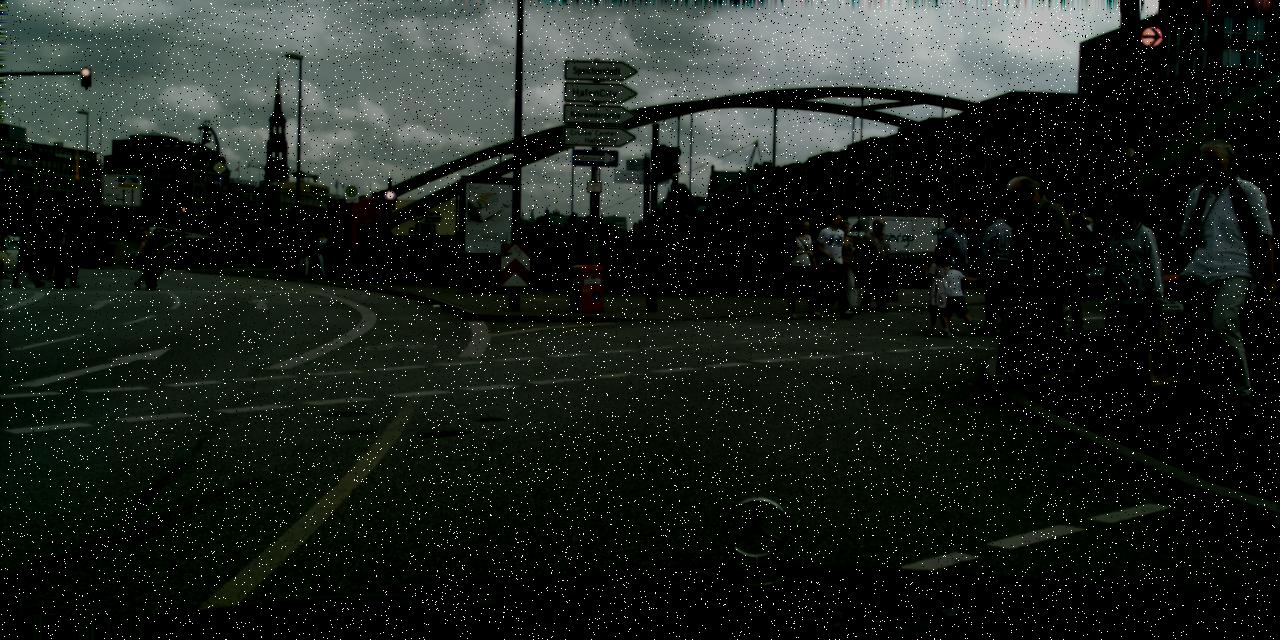ped: (1166, 138, 1279, 414), (985, 175, 1072, 387), (1088, 189, 1172, 395), (994, 181, 1076, 381), (1034, 200, 1088, 331), (970, 202, 1021, 329), (812, 212, 854, 314), (784, 219, 824, 319), (824, 219, 862, 312), (858, 218, 896, 310), (921, 243, 958, 334), (931, 212, 967, 300), (942, 215, 976, 299), (940, 254, 972, 334), (48, 226, 73, 287), (143, 228, 168, 289), (18, 228, 42, 287), (134, 231, 158, 288), (62, 230, 85, 286), (285, 222, 306, 274), (33, 230, 53, 280), (312, 230, 331, 276), (27, 232, 45, 278), (295, 232, 312, 274), (0, 231, 11, 278), (61, 228, 75, 264), (148, 223, 156, 243), (138, 223, 146, 243), (70, 216, 78, 233), (62, 218, 68, 230), (17, 218, 21, 230)
